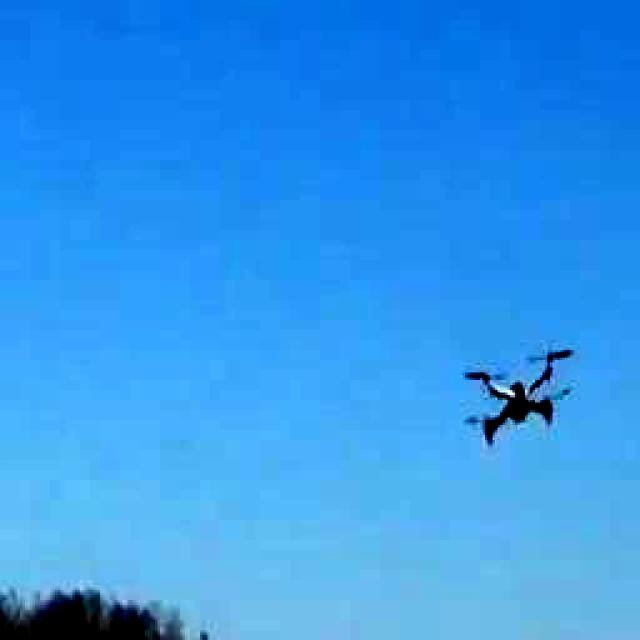bird: (449, 355, 579, 448)
